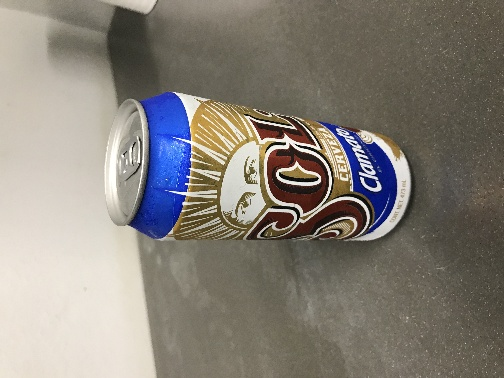SCL: (81, 66, 298, 173)
